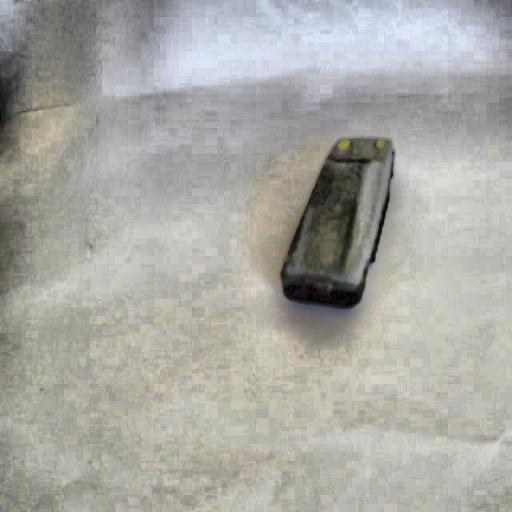normal_car: (278, 134, 396, 310)
